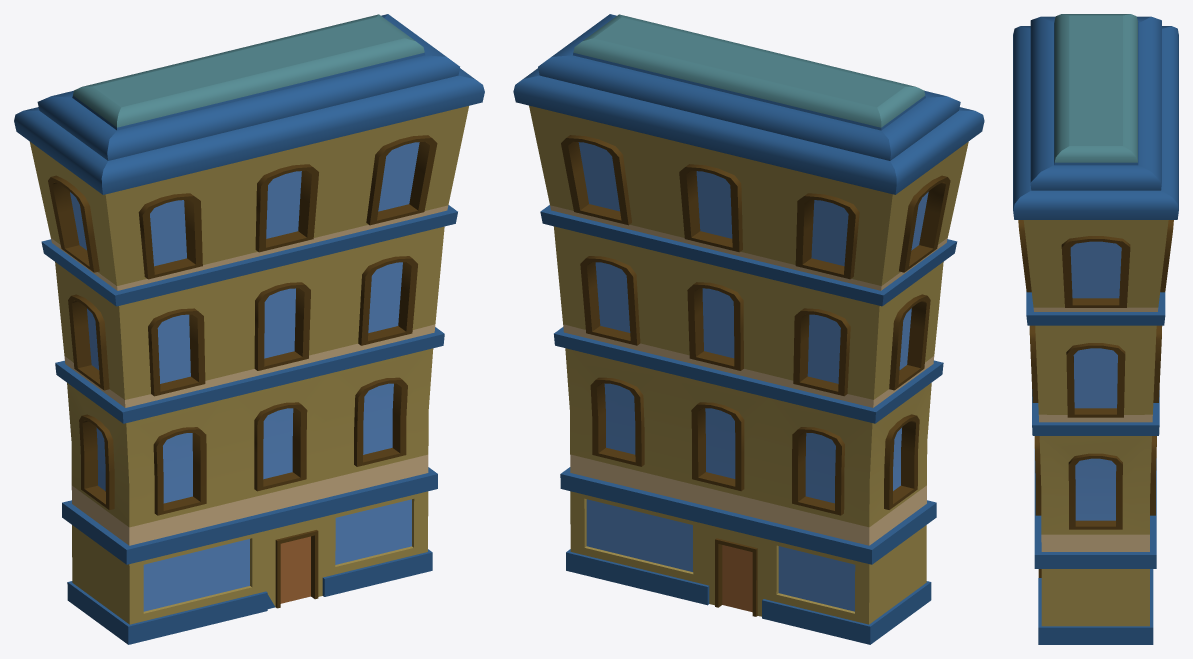
The model's file is Highrise_02.fbx.
The picture shows the model from 3 angles, left to right: view 1: azimuth 30°, elevation 25°; view 2: azimuth 150°, elevation 25°; view 3: azimuth 270°, elevation 25°; orthographic projection. The views are drawn at different scales.
Visible parts, largest first — view 1: Highrise-2; view 2: Highrise-2; view 3: Highrise-2.
Part boxes in pixels (bbox=[...]): Highrise-2: bbox=[14, 14, 484, 644]; Highrise-2: bbox=[513, 14, 984, 644]; Highrise-2: bbox=[1013, 14, 1178, 644].
Bounding box in the file's own units: 24.41 × 31.86 × 9.7.
